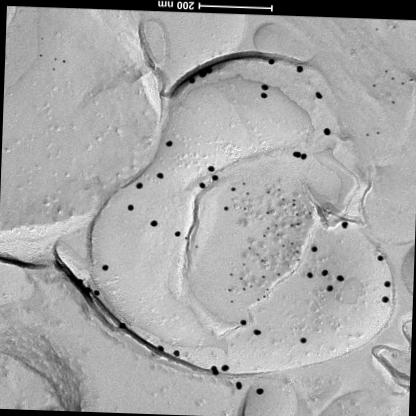6 nm Particle: (244, 190, 251, 198), (275, 186, 282, 194), (241, 181, 248, 188), (226, 288, 234, 294), (290, 202, 297, 208), (275, 272, 282, 278), (254, 251, 260, 258), (258, 258, 266, 263), (294, 212, 300, 218), (264, 210, 270, 216), (261, 294, 267, 300), (238, 276, 244, 282), (261, 274, 267, 280), (241, 262, 247, 268), (294, 249, 300, 255), (280, 243, 286, 249), (261, 233, 267, 239), (275, 232, 281, 238), (240, 287, 247, 292), (228, 271, 233, 278), (306, 211, 312, 216), (291, 198, 297, 203), (280, 197, 286, 202), (264, 287, 270, 292), (249, 284, 255, 289), (296, 257, 301, 263), (246, 246, 252, 251), (295, 221, 301, 226), (242, 207, 247, 212), (266, 226, 271, 231), (289, 223, 294, 228), (265, 190, 271, 194), (274, 223, 278, 228), (290, 242, 296, 245)
